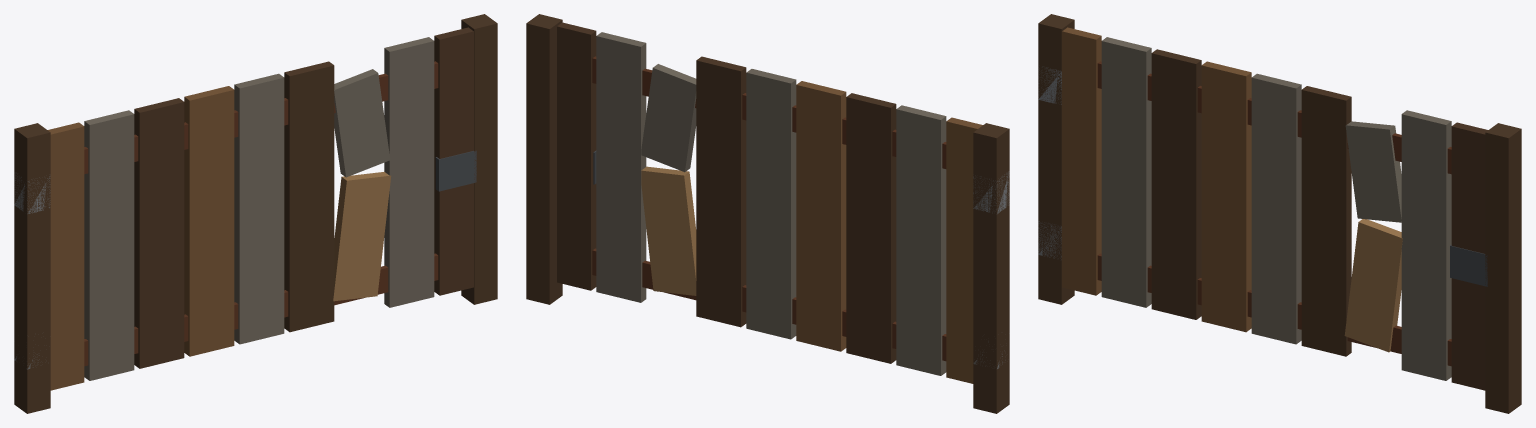
File: piece_gate_damaged.fbx
3 views of the same model, side by side, from view 1: azimuth 30°, elevation 25°; view 2: azimuth 150°, elevation 25°; view 3: azimuth 330°, elevation 25° (orthographic).
Visible parts, largest first — view 1: piece_gate_damaged; view 2: piece_gate_damaged; view 3: piece_gate_damaged.
Boxes of the visible parts, x1,y1,x2,y2 form: piece_gate_damaged: [14, 14, 497, 413]; piece_gate_damaged: [526, 14, 1009, 413]; piece_gate_damaged: [1038, 14, 1521, 413].
Bounding box in the file's own units: 2 × 1.12 × 0.095.
